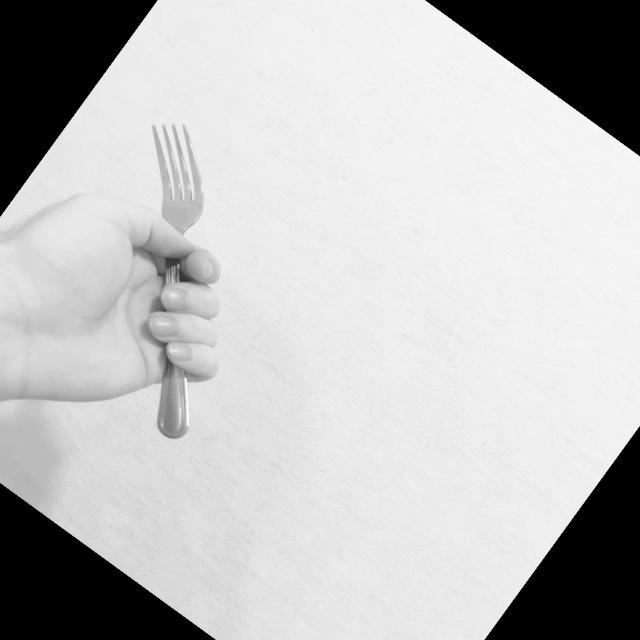fork: (6, 108, 333, 448)
